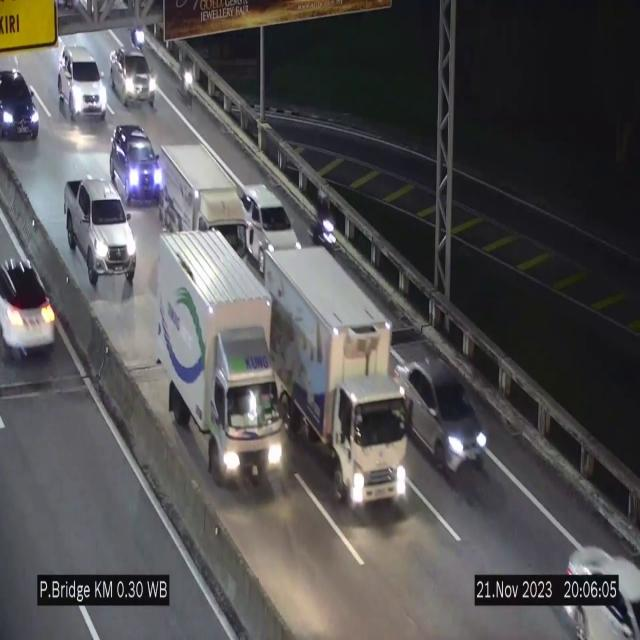Car: (400, 357, 490, 479), (559, 520, 640, 640), (62, 174, 139, 291), (0, 236, 66, 360), (238, 180, 300, 266), (110, 125, 161, 203), (56, 45, 106, 123), (0, 64, 44, 146), (109, 44, 160, 108)
Motorcycle: (312, 190, 336, 258), (176, 52, 197, 115)
Truck: (261, 243, 415, 520), (154, 229, 290, 500), (156, 135, 253, 270)
